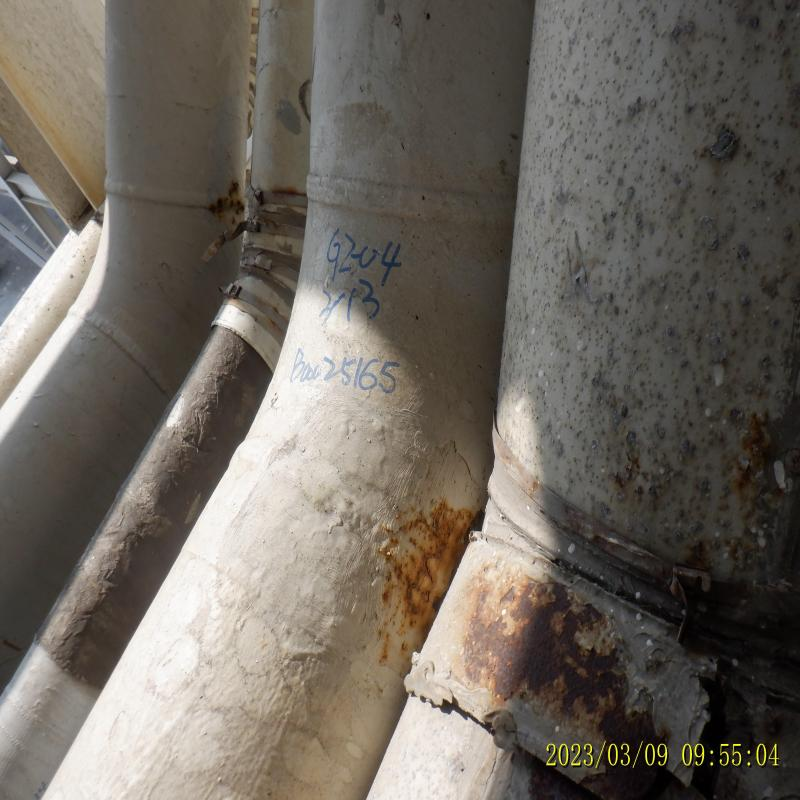corrosion: (382, 512, 479, 588)
